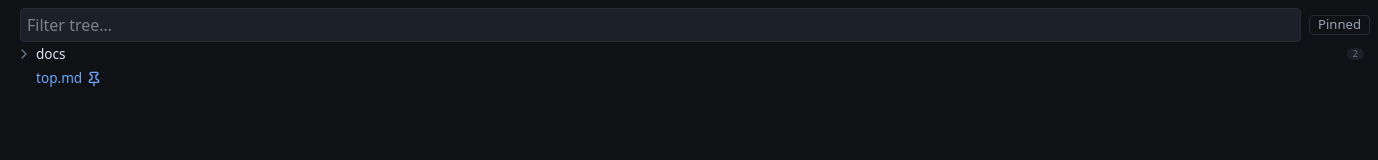
Test: TreeFilter › Pinned filter composes with the text filter
The image size is (1378, 160).
Click the button titled "Show only pinned files" at [1340, 25], box [1309,15,1370,34]
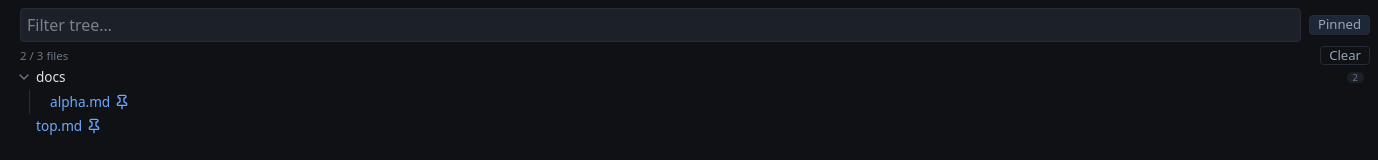
Type "alpha" into the field with placeholder "Filter tree…" at [660, 25], box [20,8,1301,42]
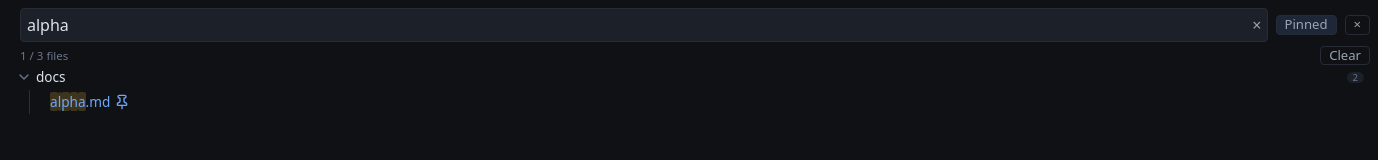
Result: the text "alpha.md" is shown at [50,92,110,112]
Result: the text "top.md" is gone
